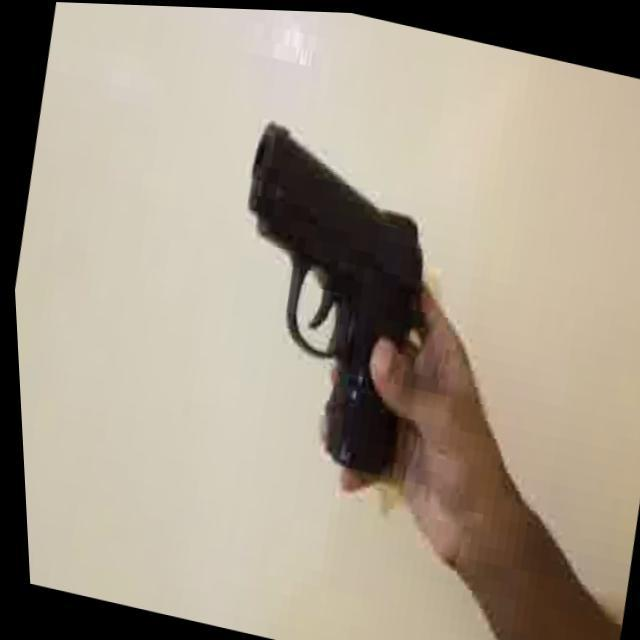weapon: (194, 111, 466, 487)
